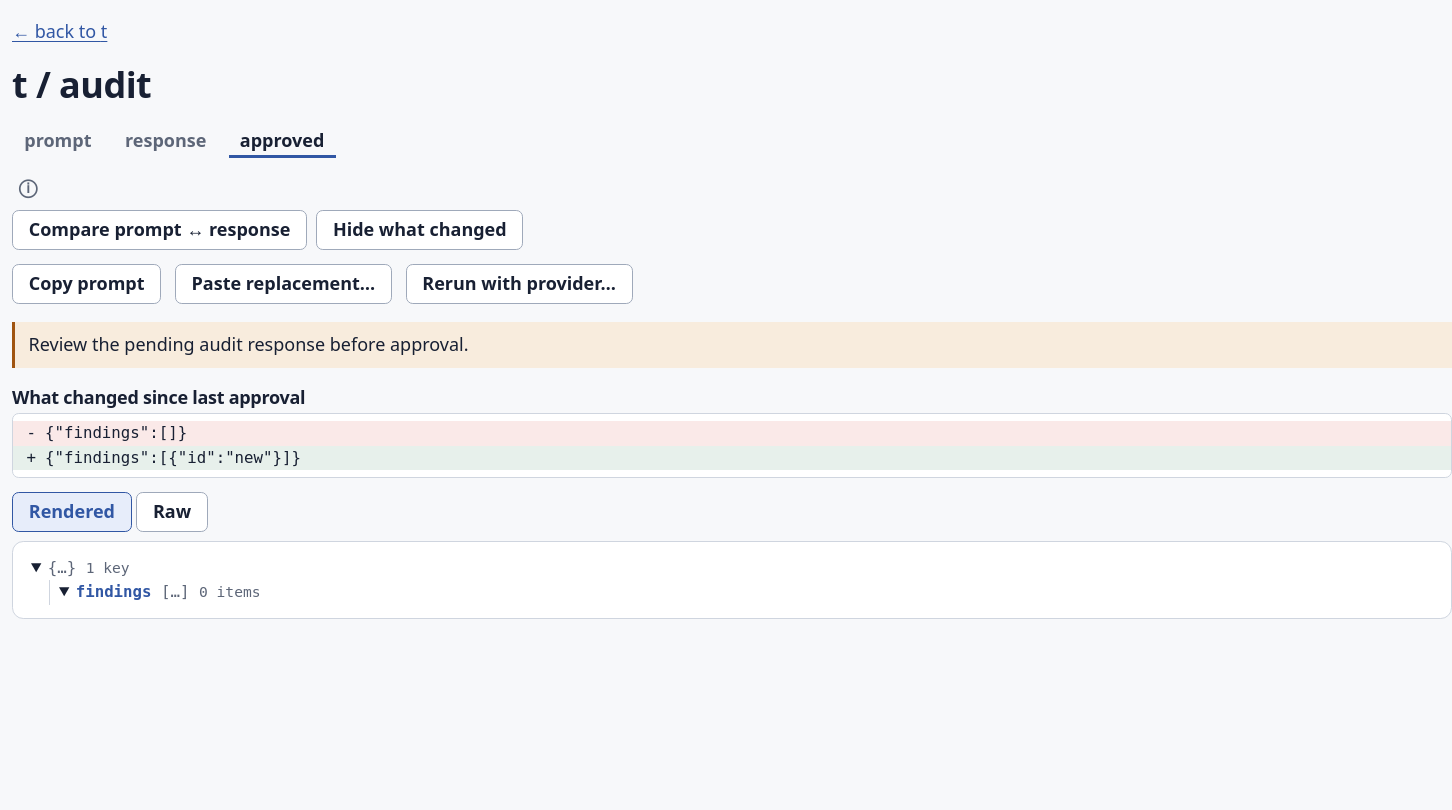
StageViewerPage › requires the pending audit response tab before approval
Expected: the text "Review the pending audit response before approval." is shown, [12,322,1451,368]
Expected: the button "Approve audit" is not shown
Click the tab "response" at (166, 141), box [113,123,218,159]
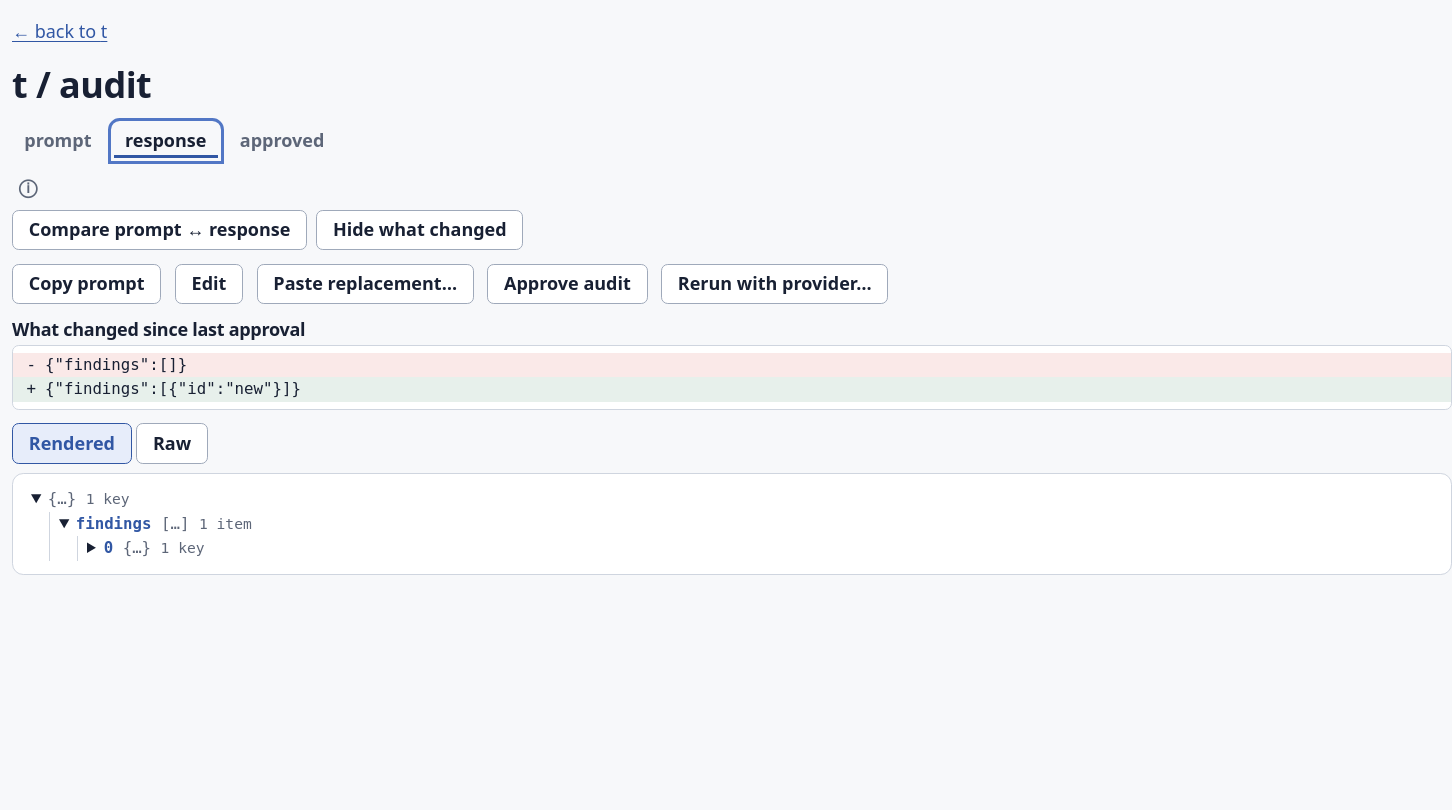
Result: the button "Approve audit" is shown at [487,264,648,304]
